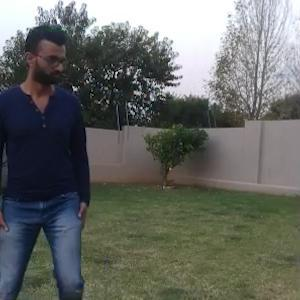follow: (0, 3, 106, 299)
